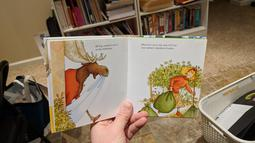text block: (137, 41, 182, 52), (92, 41, 121, 52)
